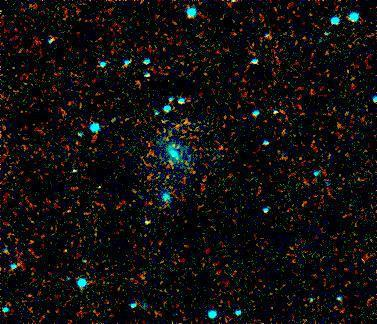star: (172, 105, 202, 135)
